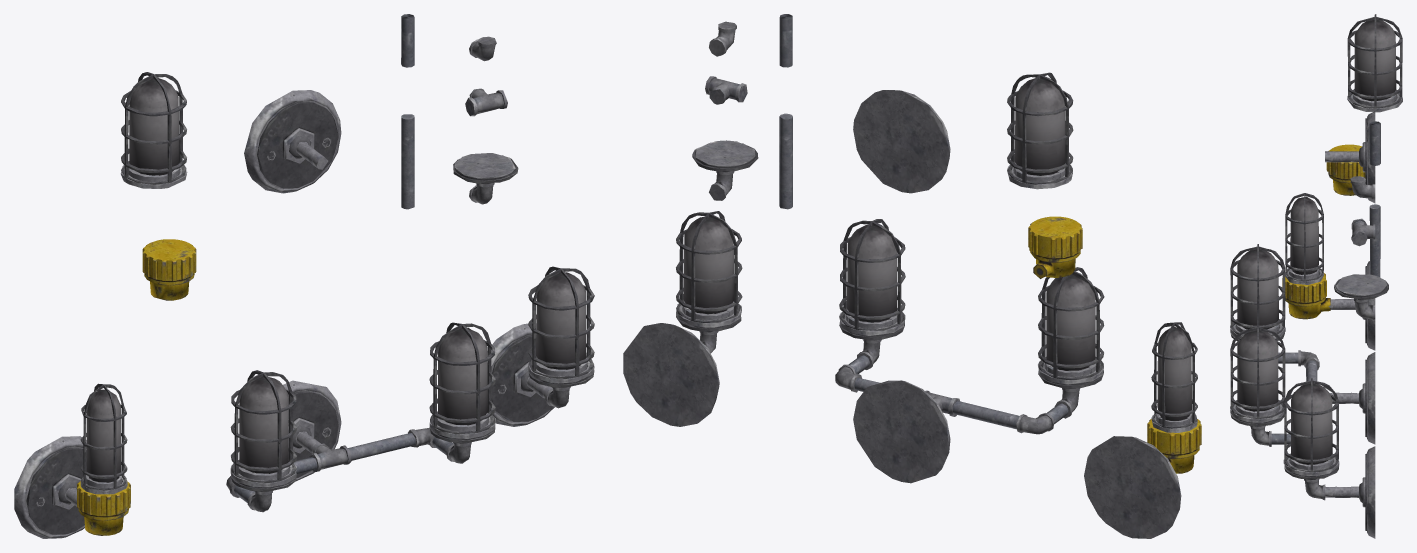
The model's file is industrial_caged_sconce.glb.
The picture shows the model from 3 angles, left to right: view 1: azimuth 30°, elevation 25°; view 2: azimuth 150°, elevation 25°; view 3: azimuth 270°, elevation 25°; orthographic projection. The views are drawn at different scales.
Parts seen in each view (by area): view 1: industrial_caged_sconce_b; view 2: industrial_caged_sconce_b; view 3: industrial_caged_sconce_b.
Part boxes in pixels (box(x1,y1,x2,y2)): industrial_caged_sconce_b: box(14, 14, 594, 538); industrial_caged_sconce_b: box(623, 14, 1201, 538); industrial_caged_sconce_b: box(1230, 14, 1402, 538).
Size of the model in its own units: 1.21 by 0.9129 by 0.3894.
Materials: 1 (1 with a texture image).
